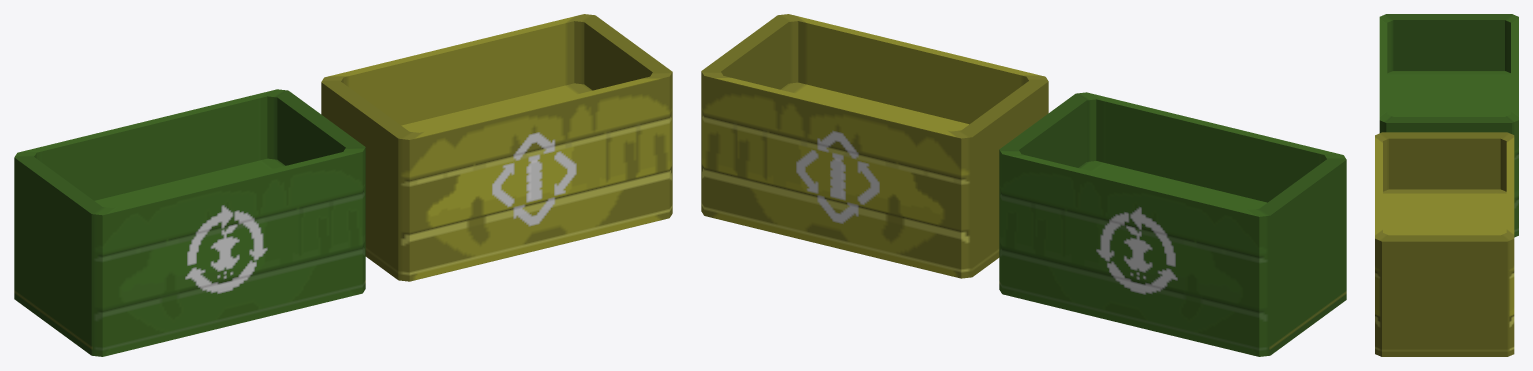
File: L1_Garbage.fbx
The picture shows the model from 3 angles, left to right: view 1: azimuth 30°, elevation 25°; view 2: azimuth 150°, elevation 25°; view 3: azimuth 270°, elevation 25°; orthographic projection. The views are drawn at different scales.
Parts seen in each view (by area): view 1: Plane.267, Plane.265; view 2: Plane.267, Plane.265; view 3: Plane.265, Plane.267.
Boxes of the visible parts, x1,y1,x2,y2 form: Plane.267: (14, 89, 365, 356); Plane.265: (321, 14, 672, 281); Plane.267: (999, 92, 1346, 356); Plane.265: (701, 14, 1048, 278); Plane.265: (1375, 132, 1514, 356); Plane.267: (1379, 14, 1518, 237).
Bounding box in the file's own units: 427 × 102 × 113.
Materials: 2 (2 with a texture image).
